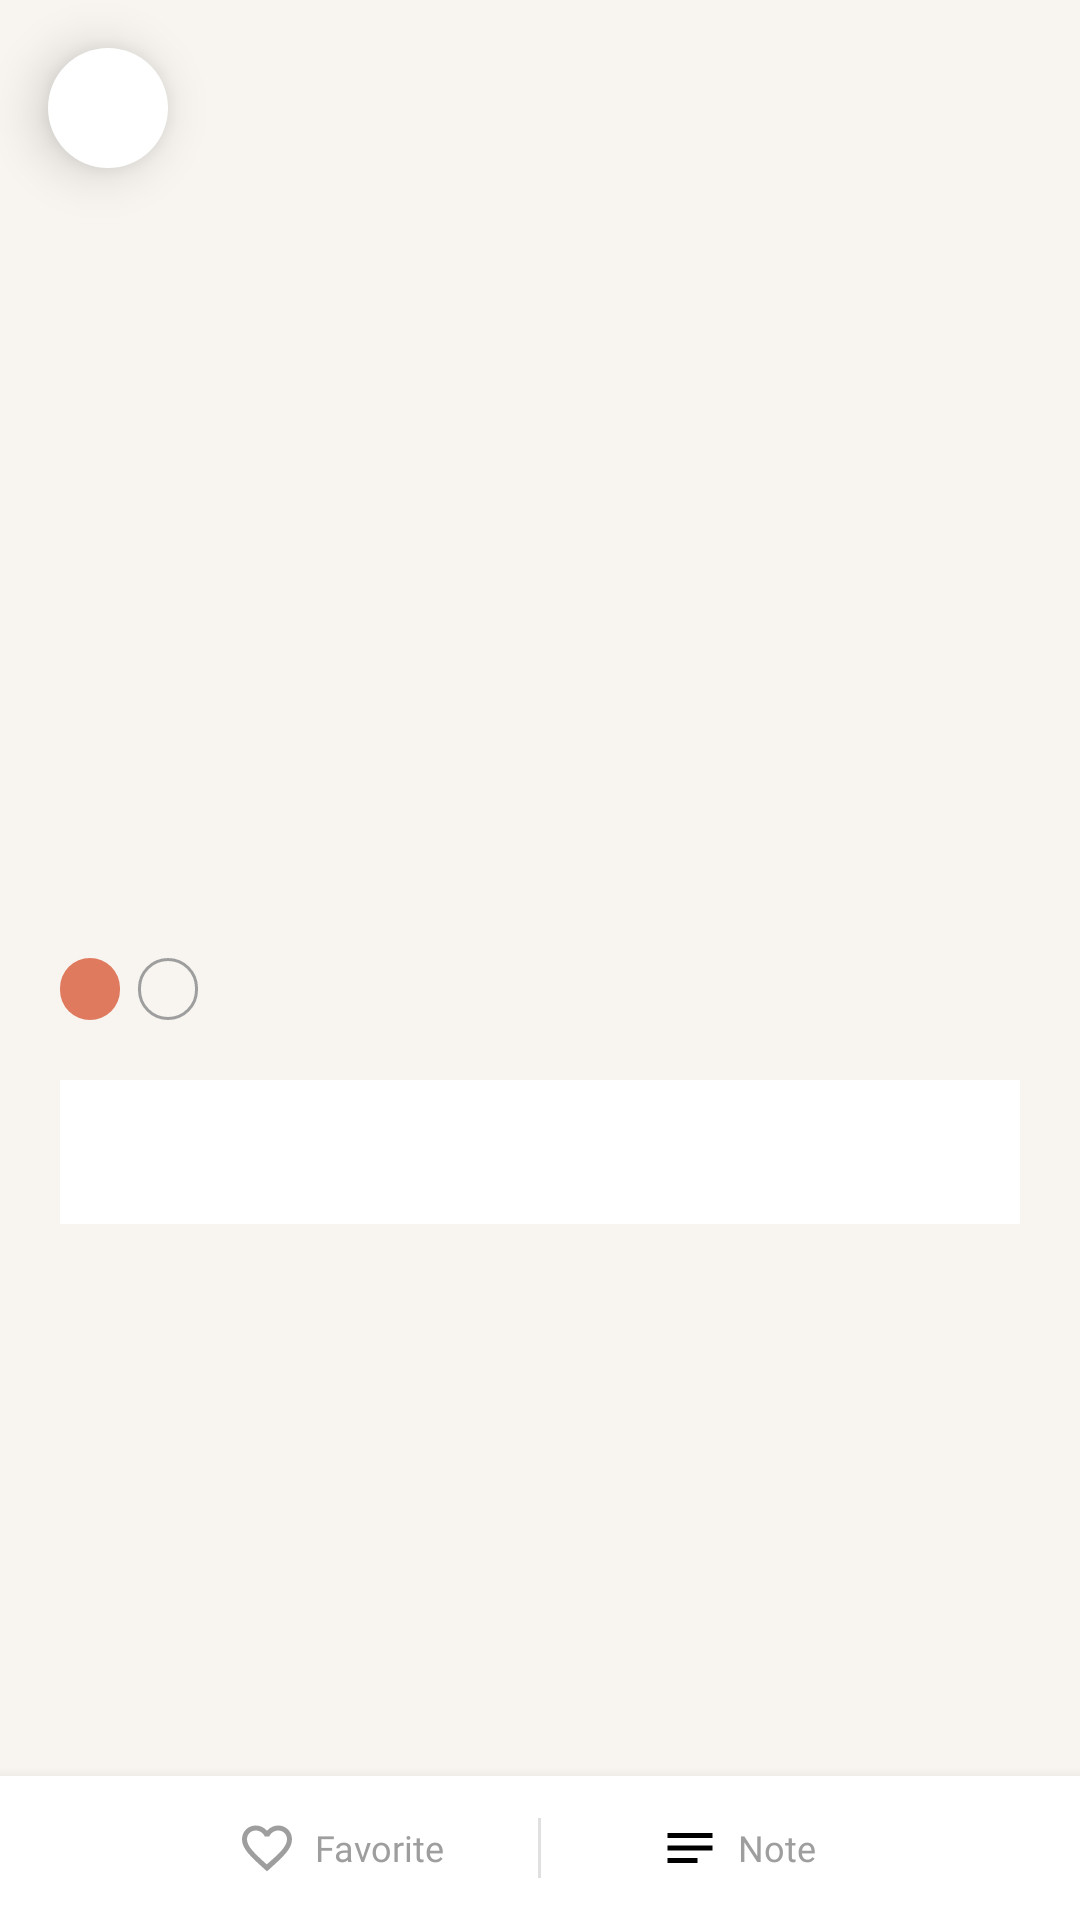

Named icons in this screenshot (1080px x 1920px) and their centers, (x=x, y=y):
heart: (x=267, y=1848)
